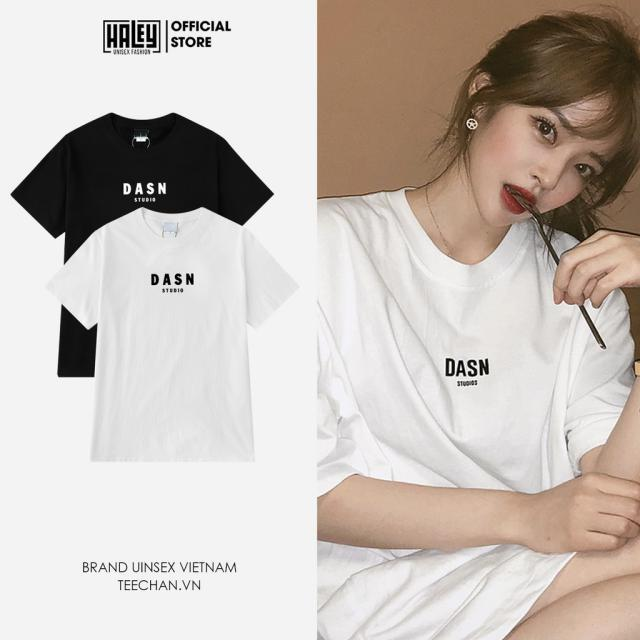Shirt: (314, 182, 638, 640), (12, 100, 274, 378), (49, 207, 298, 468)
